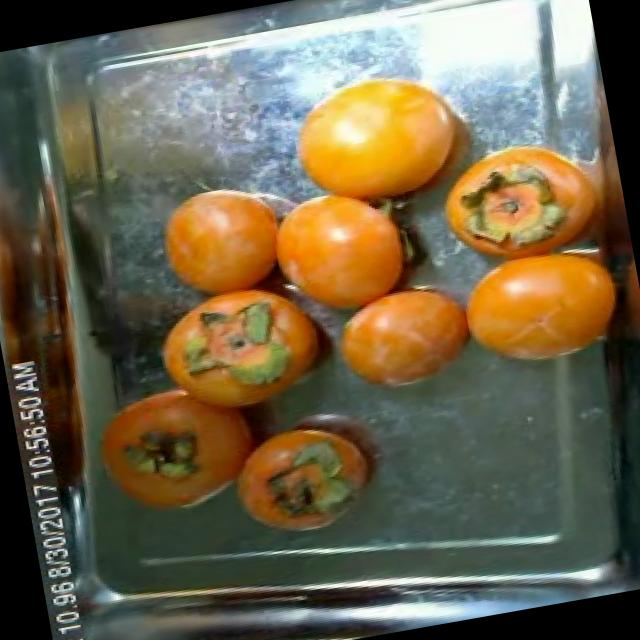Fruit: (265, 42, 504, 242), (66, 366, 248, 537), (442, 238, 640, 392), (312, 264, 496, 415), (138, 166, 308, 320), (420, 128, 598, 264), (212, 408, 370, 552)
